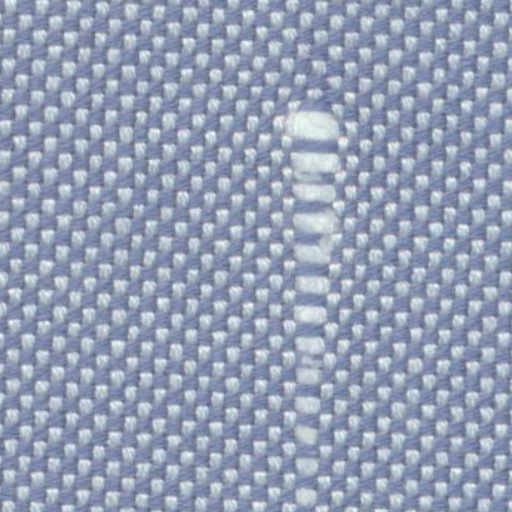DaiSha: (264, 83, 360, 484)
